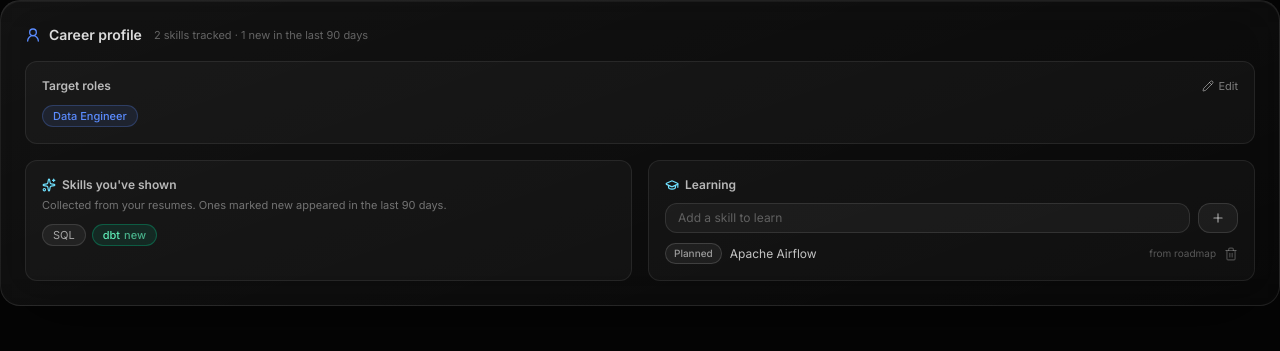
Test case: CareerProfilePanel › surfaces a duplicate-skill rejection from the server
Expected: the text "Apache Airflow" is shown, [730,246,817,260]
Type "dbt" into the field with placeholder "Add a skill to learn" at (928, 218), box [665,203,1190,233]
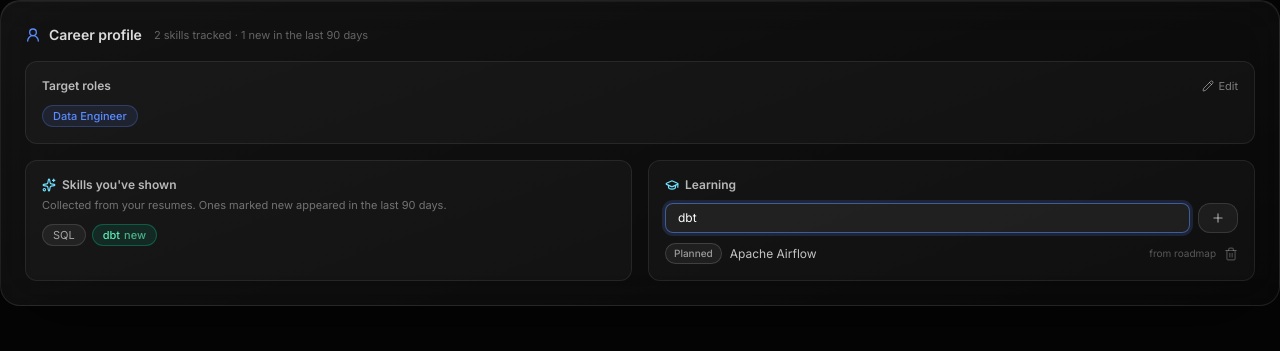
Click the button named "Add learning item" at (1218, 218), box [1198,203,1238,233]
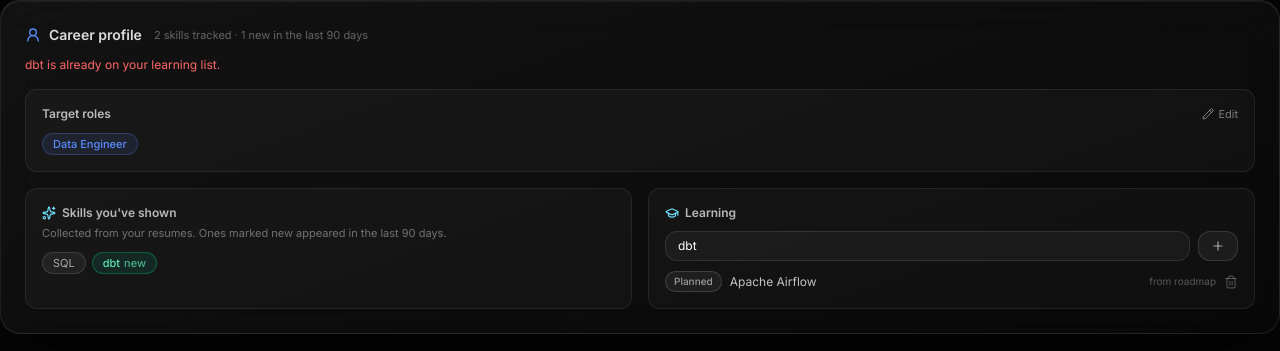
Now the text "dbt is already on your learning list." is shown, box [25,57,220,72]
